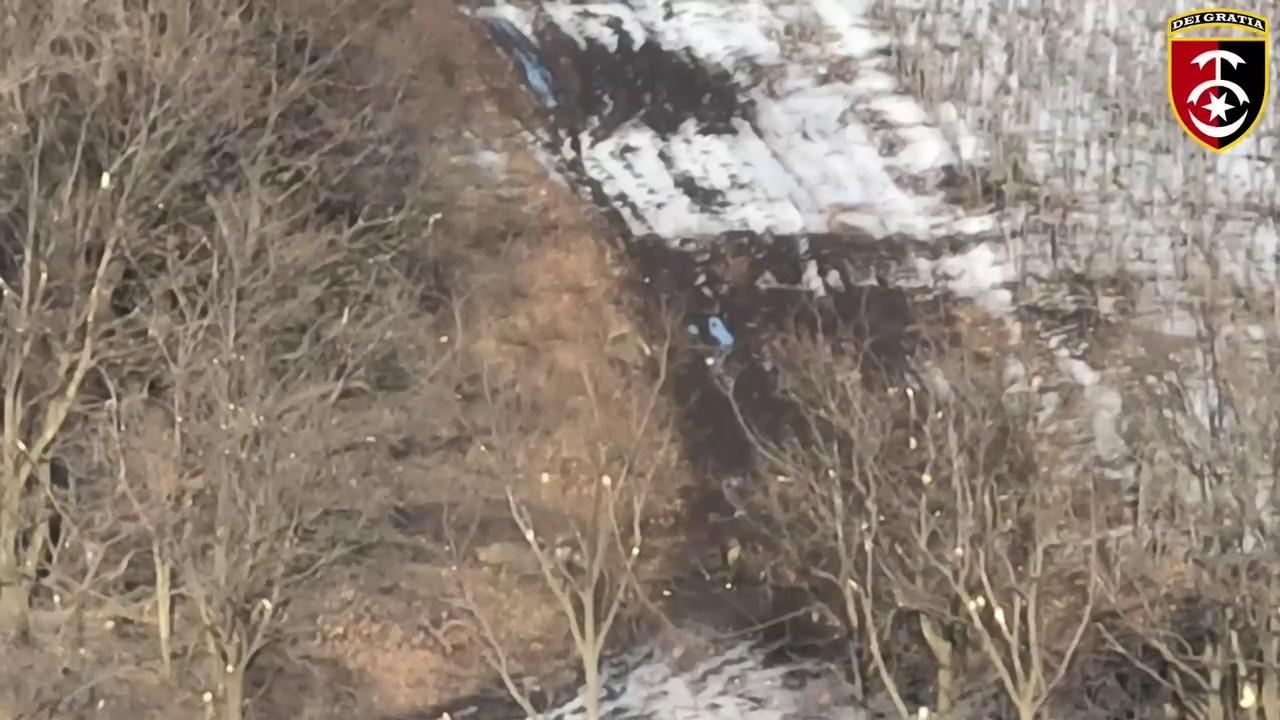person: (712, 535, 822, 596)
